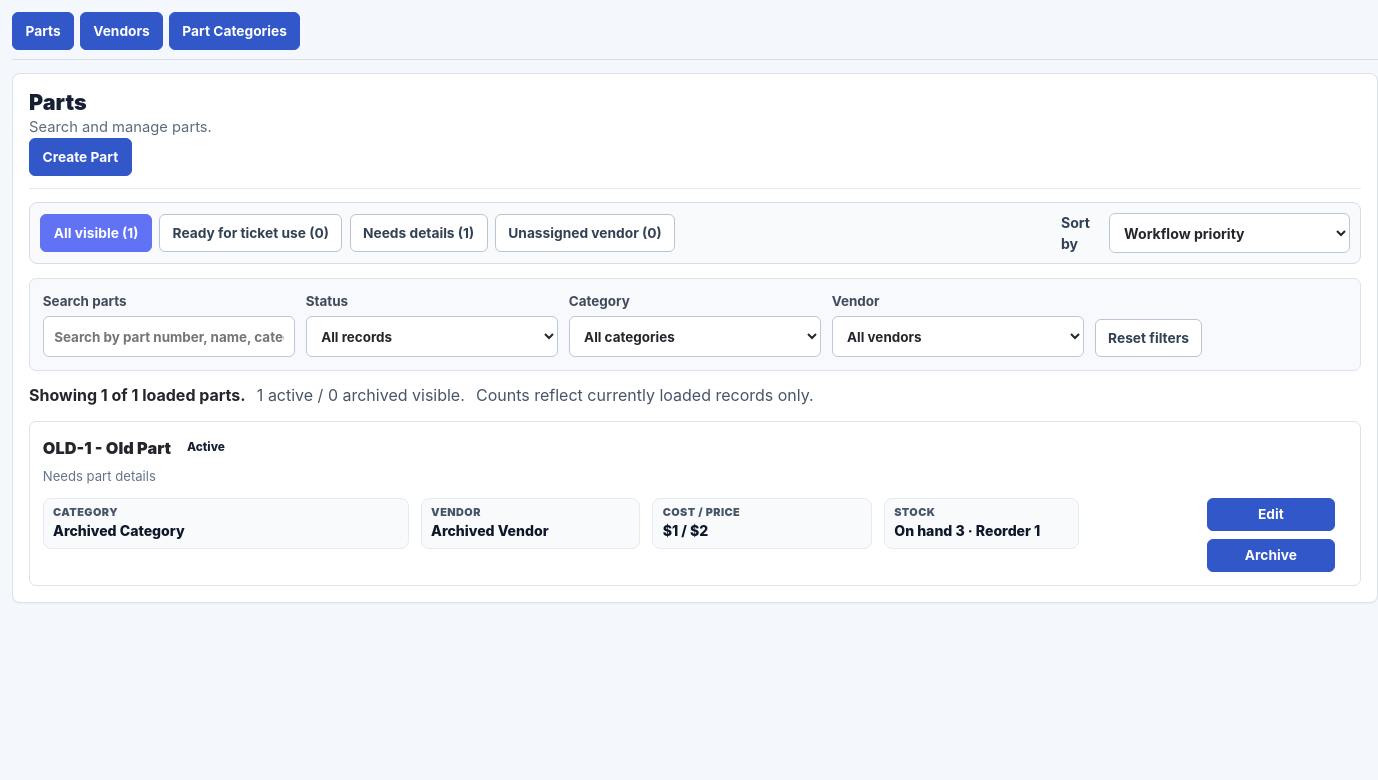
Manager/Admin master-data filter defaults › uses active part category and vendor options for creates and keeps archived selections in edit mode
Click the button "Edit" at {"x": 1271, "y": 514}, box [1206,498,1335,531]
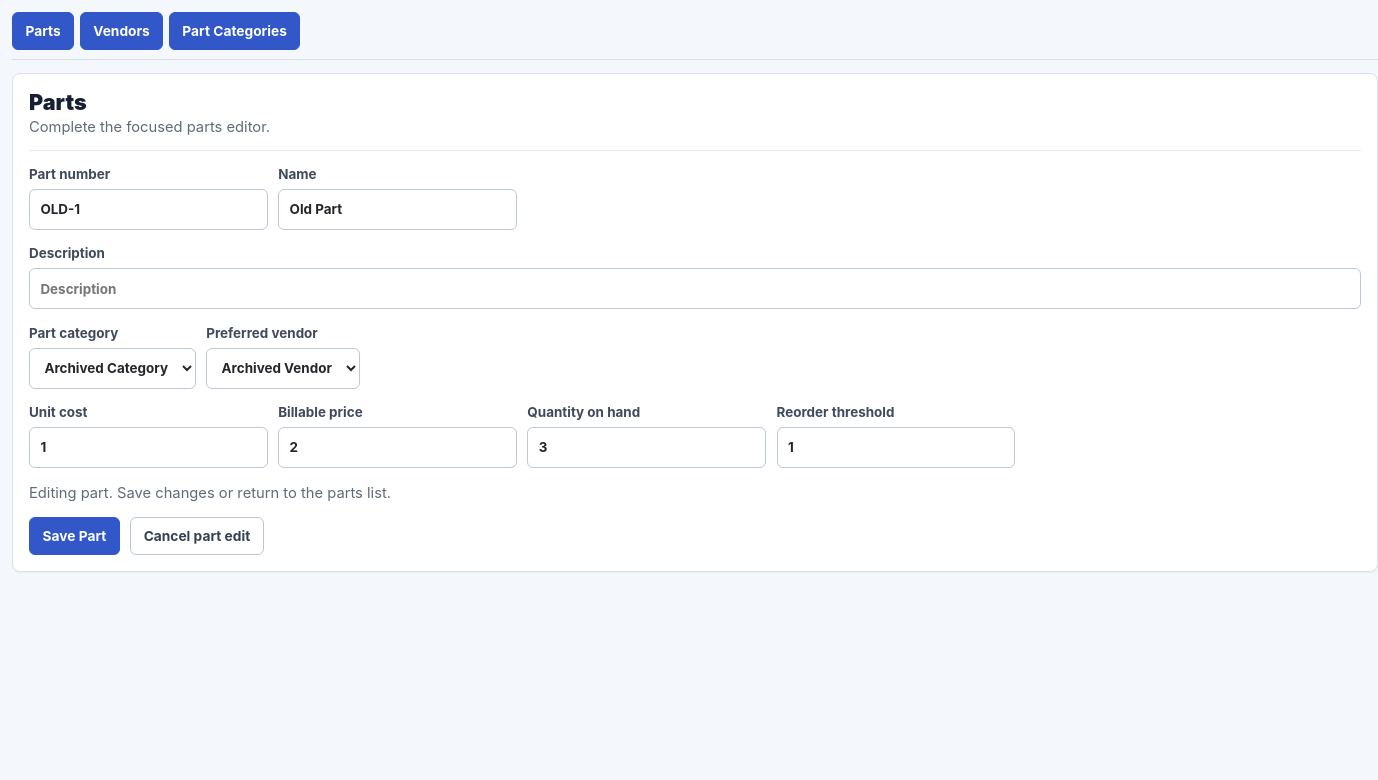
Now the dropdown labelled "Part category" shows "Archived Category", box [29,348,196,389]
Now the dropdown labelled "Preferred vendor" shows "Archived Vendor", box [206,348,360,389]
